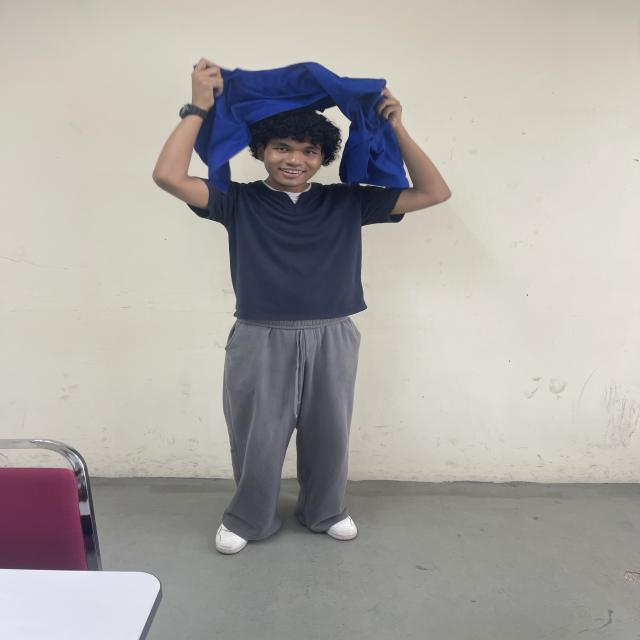person_without_labcoat: (153, 61, 450, 554)
